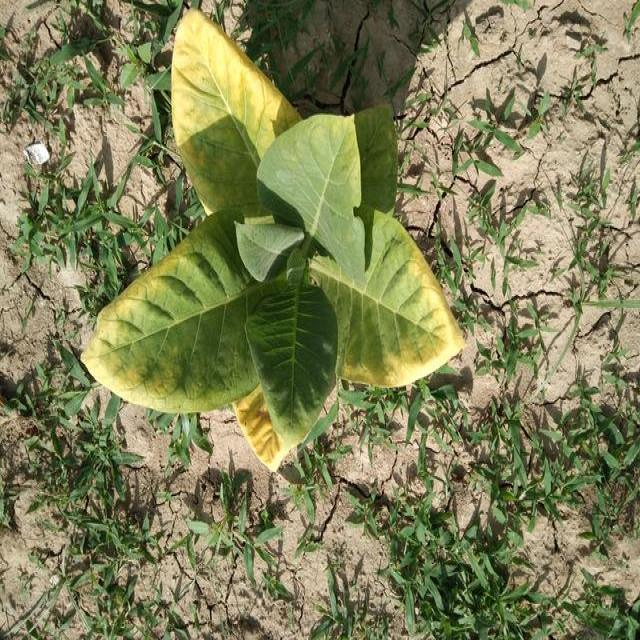crop: (79, 11, 462, 469)
